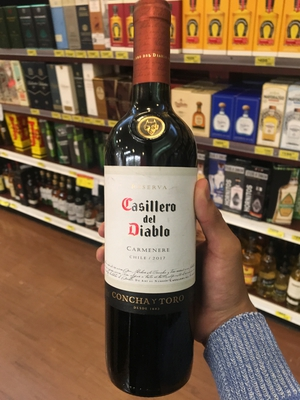casillero del diablo carmenere: (89, 14, 207, 400)
